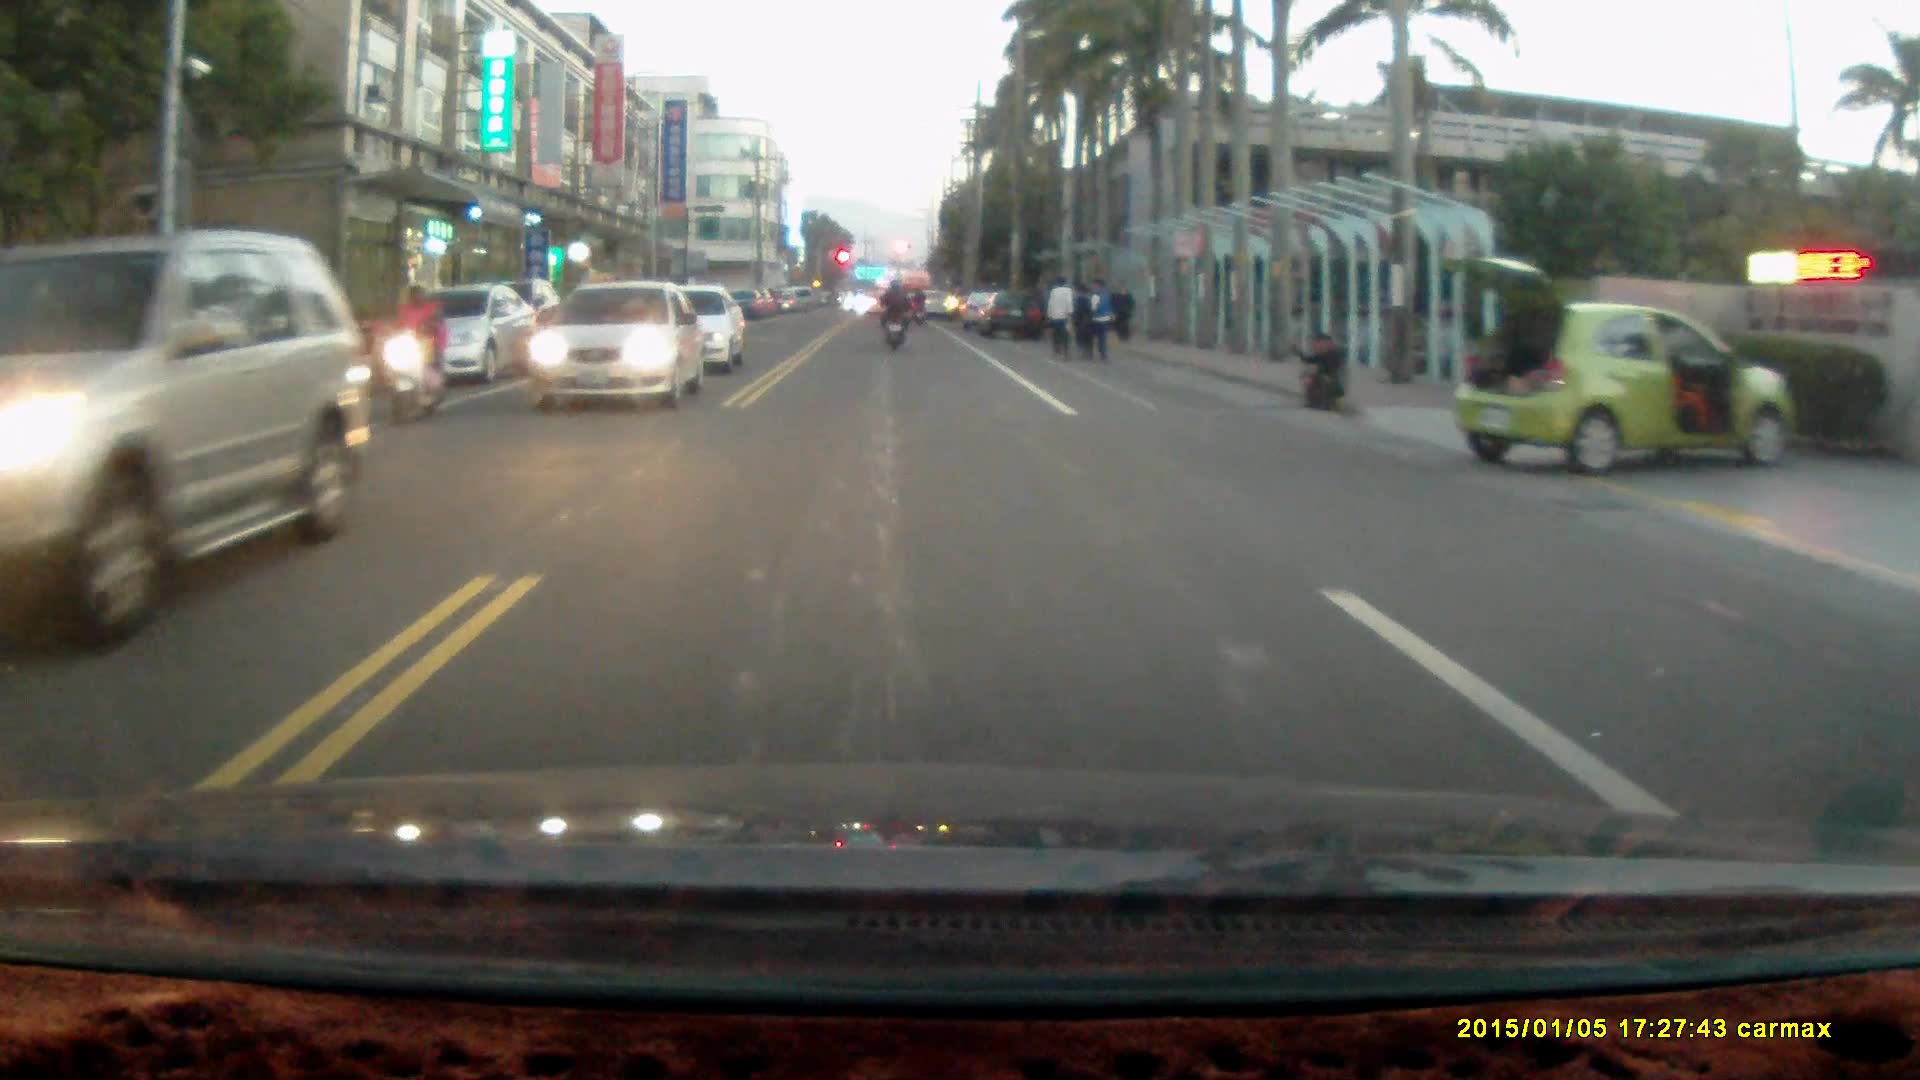pedestrian: (1295, 330, 1350, 413), (1076, 275, 1115, 363), (1044, 274, 1072, 363), (1066, 283, 1095, 367), (1109, 279, 1134, 341)
rider: (387, 280, 453, 426), (876, 276, 911, 353)
vehicle: (1, 231, 381, 675), (1438, 256, 1800, 477), (523, 281, 705, 419), (400, 286, 537, 394), (642, 284, 746, 378), (973, 291, 1045, 341)
